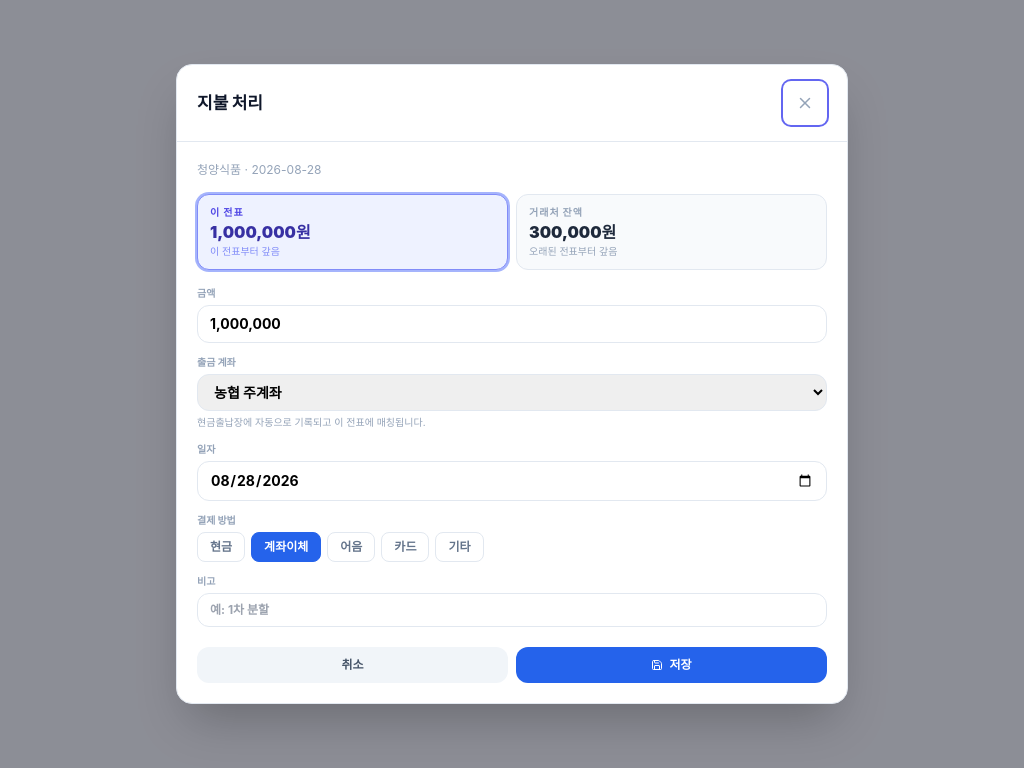
수금·지불 — 전표에서 연다 › 일반전표의 미지급금은 지불·출금 계좌로 열고 채무 잔액을 검사한다
The image size is (1024, 768).
Expected: the heading "지불 처리" is shown, [197,91,263,115]
Expected: the text "출금 계좌" is shown, [197,356,236,368]
Click the button "저장". click: [672, 665]
box: [516,647,827,683]
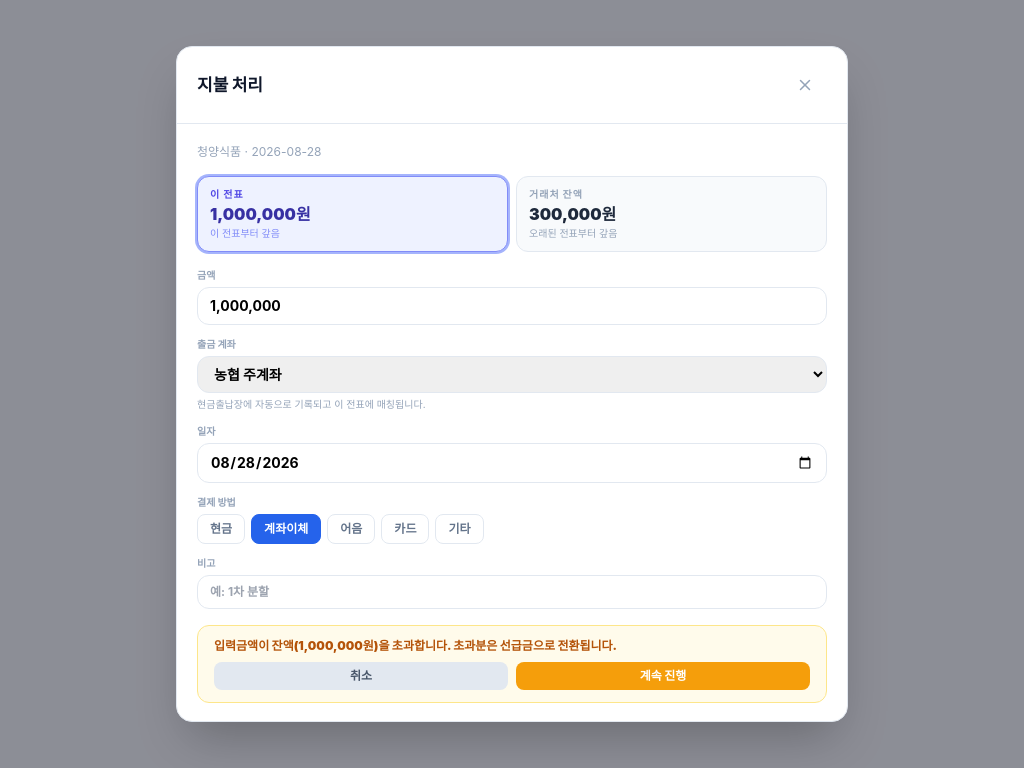
Expected: the text "입력금액이 잔액(1,000,000원)을 초과합니다. 초과분은 선급금으로 전환됩니다." is shown, [214,638,617,653]
